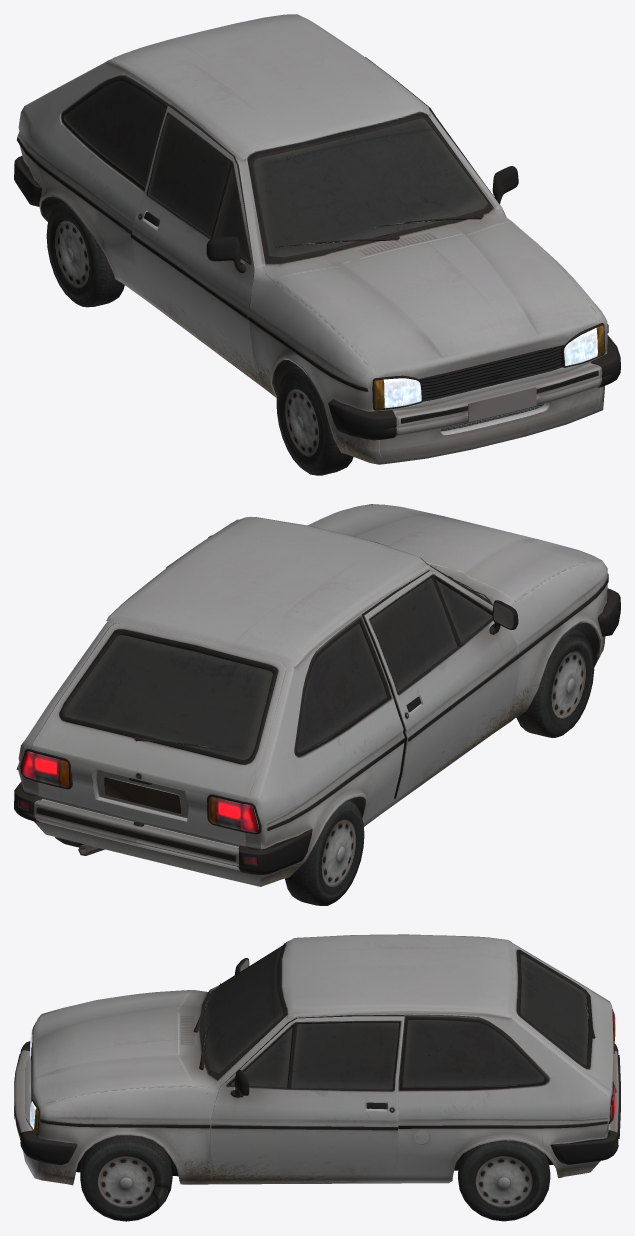
File: car.fbx
The picture shows the model from 3 angles, top to bottom: view 1: azimuth 30°, elevation 25°; view 2: azimuth 150°, elevation 25°; view 3: azimuth 270°, elevation 25°; orthographic projection. The views are drawn at different scales.
Visible parts, largest first — view 1: body, door_R, back_wheel, front_wheel_R, door_L; view 2: body, door_R, front_wheel_R, back_wheel; view 3: body, door_L, front_wheel_L, back_wheel.
Part boxes in pixels (box(x1,y1,x2,y2)): body: box(14, 14, 620, 464); door_R: box(131, 105, 256, 376); back_wheel: box(46, 200, 124, 307); front_wheel_R: box(276, 366, 353, 475); door_L: box(365, 57, 518, 214); body: box(14, 504, 620, 886); door_R: box(361, 570, 519, 799); front_wheel_R: box(516, 628, 594, 737); back_wheel: box(55, 799, 364, 905); body: box(14, 934, 620, 1185); door_L: box(210, 1015, 404, 1175); front_wheel_L: box(80, 1135, 172, 1221); back_wheel: box(458, 1140, 550, 1221).
Bounding box in the file's own units: 224 × 172 × 464.
3 materials, 3 textured.
